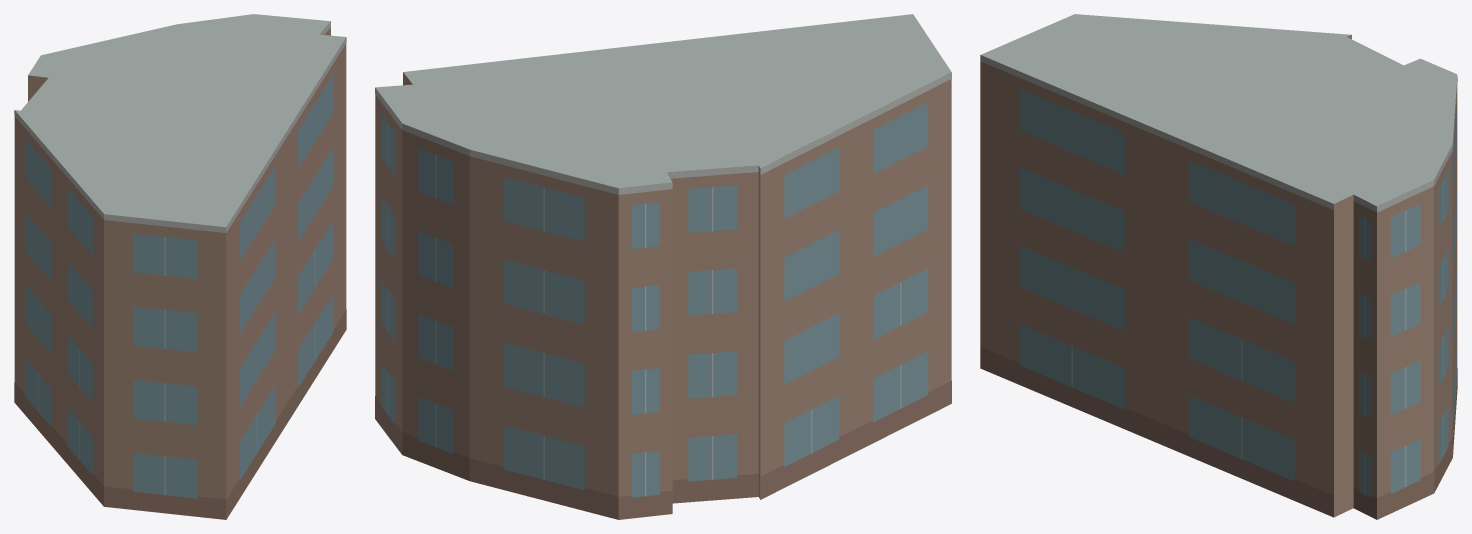
Rendered from survey-upis-32664600.glb.
3 views of the same model, side by side, from view 1: azimuth 30°, elevation 25°; view 2: azimuth 150°, elevation 25°; view 3: azimuth 270°, elevation 25° (orthographic). The views are drawn at different scales.
Parts seen in each view (by area): view 1: survey-upis-32664600.tmp; view 2: survey-upis-32664600.tmp; view 3: survey-upis-32664600.tmp.
Part boxes in pixels (x1,y1,x2,y2): survey-upis-32664600.tmp: (14, 14, 346, 519); survey-upis-32664600.tmp: (375, 14, 951, 519); survey-upis-32664600.tmp: (980, 14, 1457, 519).
Bounding box in the file's own units: 16.06 × 12.2 × 16.83.
